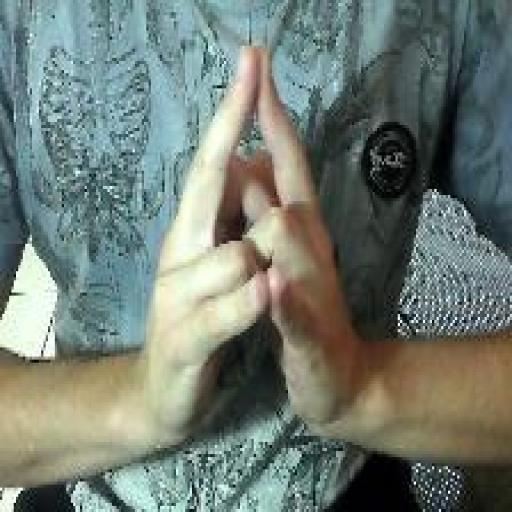Tori -bird-: (138, 41, 362, 453)
